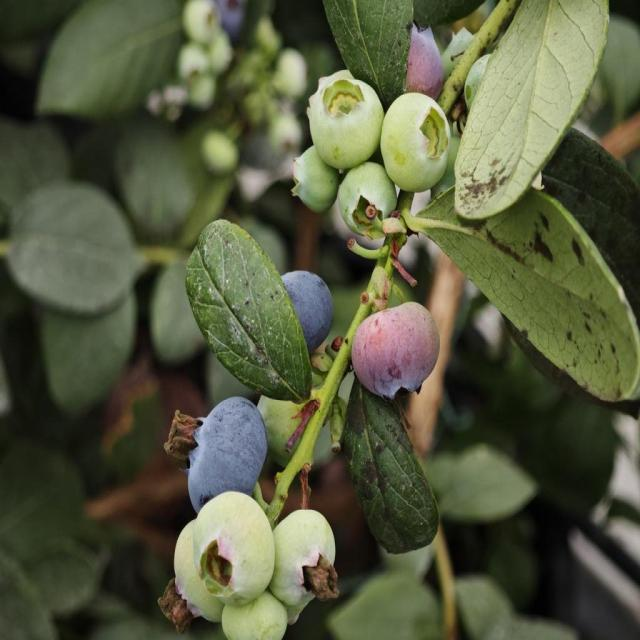RipeBlueBerry: (173, 394, 268, 492)
Semi-RipeBlueBerry: (353, 300, 443, 402)
UnripeBlueBerry: (194, 486, 274, 604), (306, 57, 383, 167), (274, 507, 346, 607), (384, 92, 451, 191)
